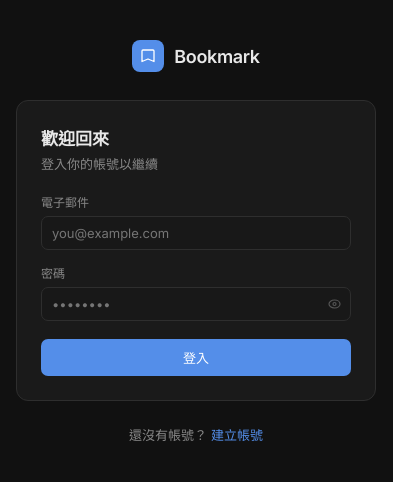
AuthPage — login › 驗證失敗：空白欄位不送出
Click the button "登入".
click(196, 358)  # box [41,339,351,376]
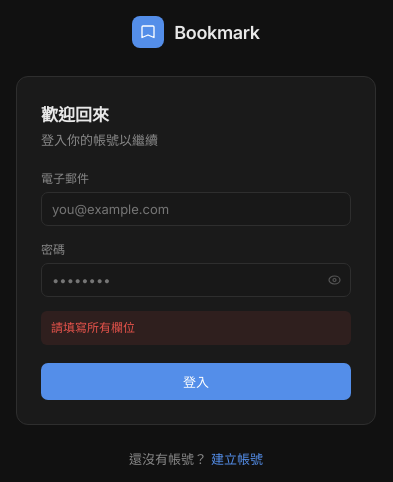
Result: the text "請填寫所有欄位" is shown at [41,311,351,345]
